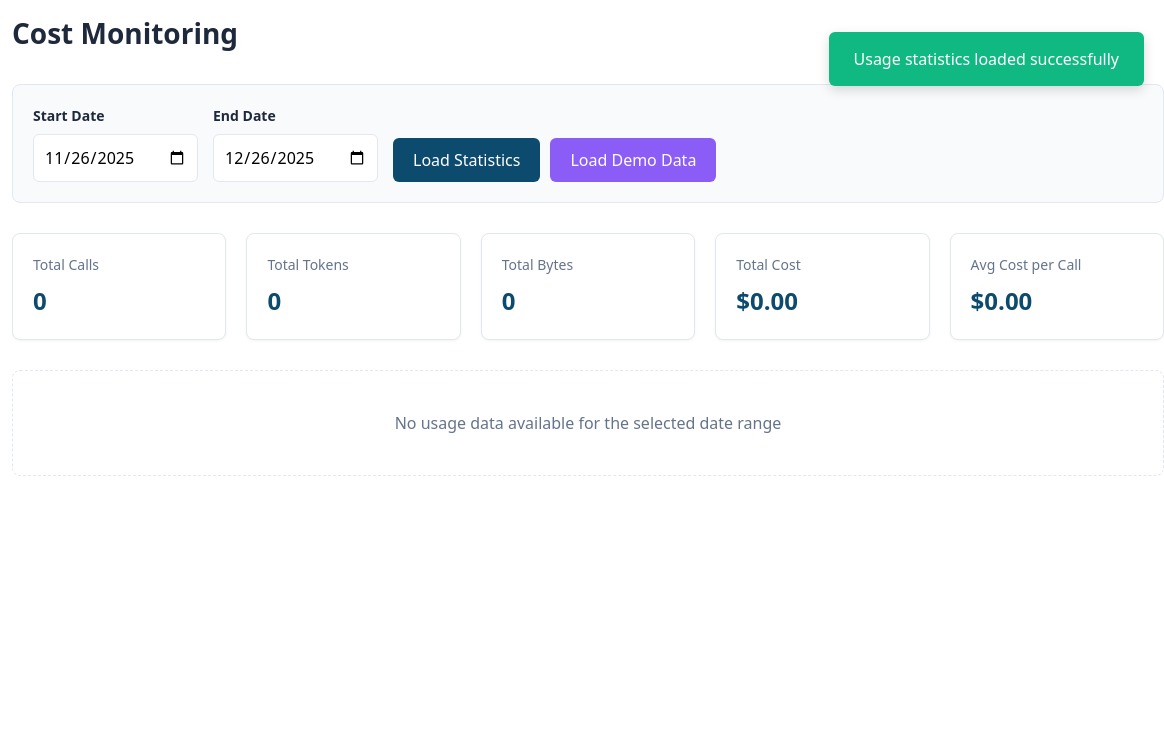
Test: CostMonitoringPanel › shows success message after loading demo data
The width and height of the screenshot is (1164, 732).
Click the button "Load Demo Data" at (633, 160), box [550,138,716,182]
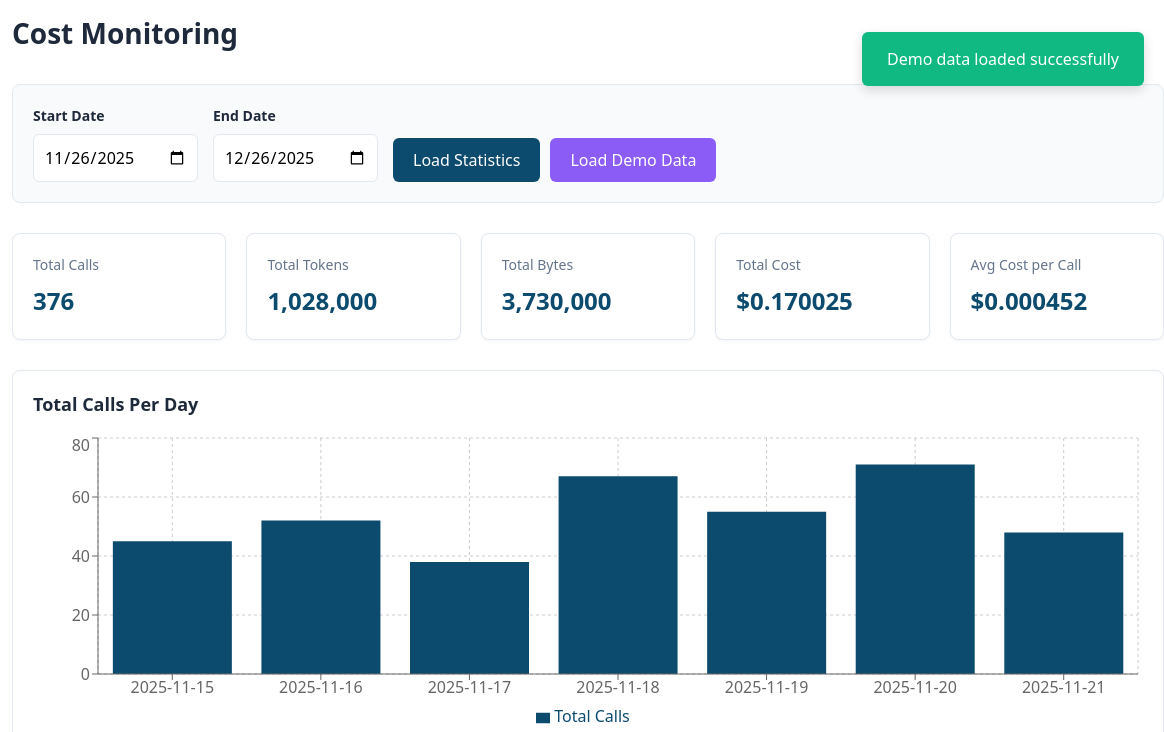
Check: the text "Demo data loaded successfully" is shown, box [862,32,1144,86]
